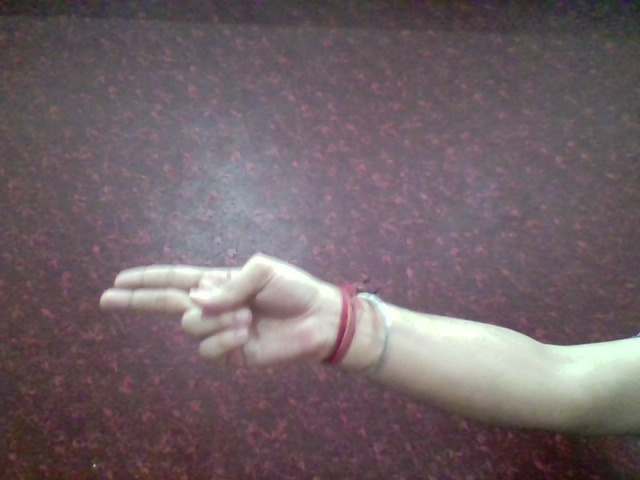h: (94, 246, 325, 385)
